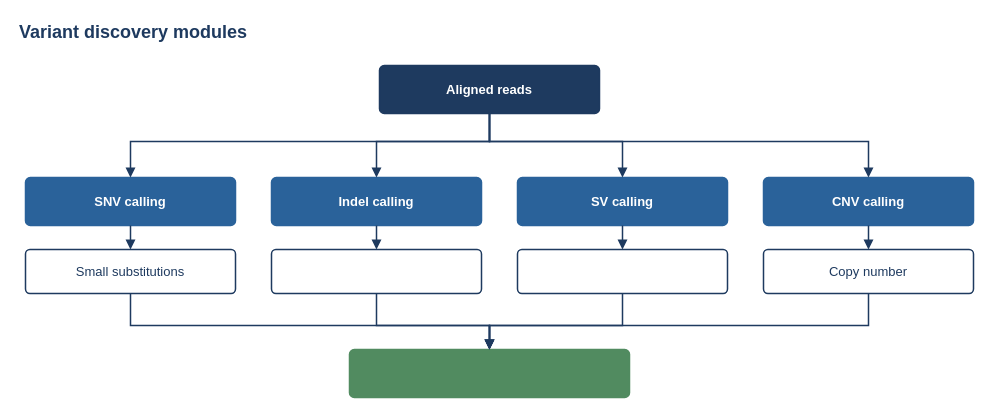
This 998x415 diagram has some shape labels left out. Each missing label, with the centre of its shape:
"Joint callset" belongs at (x=489, y=373).
"Large rearrangements" belongs at (x=622, y=271).
"Short insertions" belongs at (x=376, y=271).
